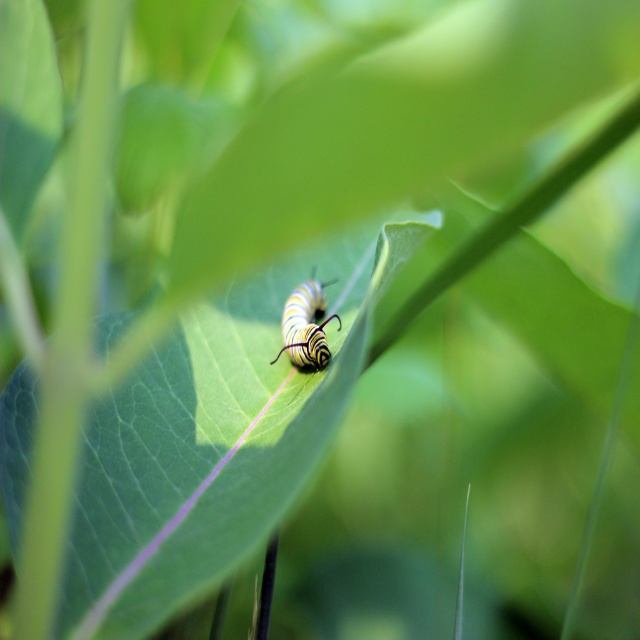Caterpillar: (266, 259, 348, 376)
